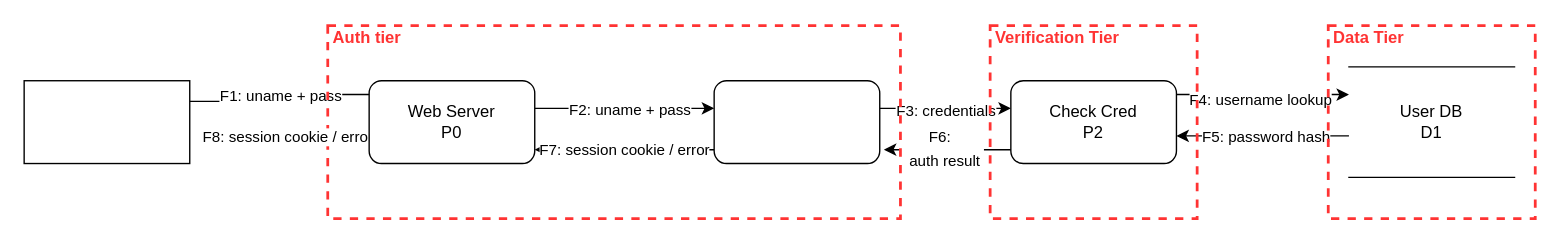
This 1561x243 diagram has some shape labels left out. Each missing label, with the centre of its shape:
"AuthN P1" goes at point 796,121.
"User E1" goes at point 106,121.
